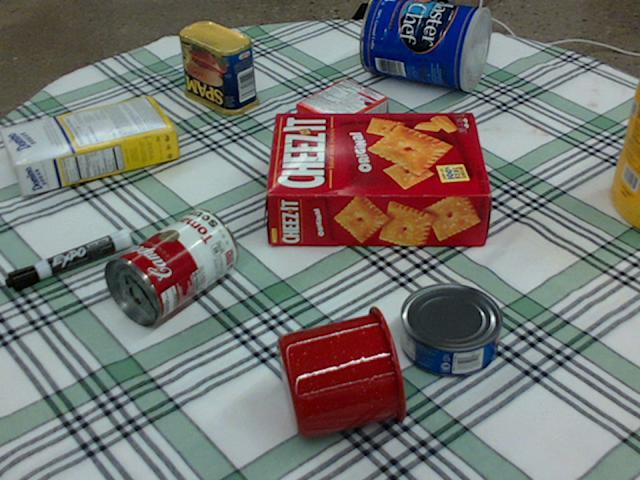cracker_box: (265, 110, 489, 244)
gelatin_box: (294, 76, 387, 143)
large_marker: (3, 229, 129, 291)
master_chef_can: (359, 0, 489, 90)
mug: (274, 302, 408, 440)
mustard_bottle: (610, 75, 639, 228)
potted_meat_can: (179, 21, 258, 114)
sugar_box: (0, 96, 178, 194)
tomato_soup_can: (103, 206, 237, 325)
tuna_fish_can: (401, 282, 504, 376)
